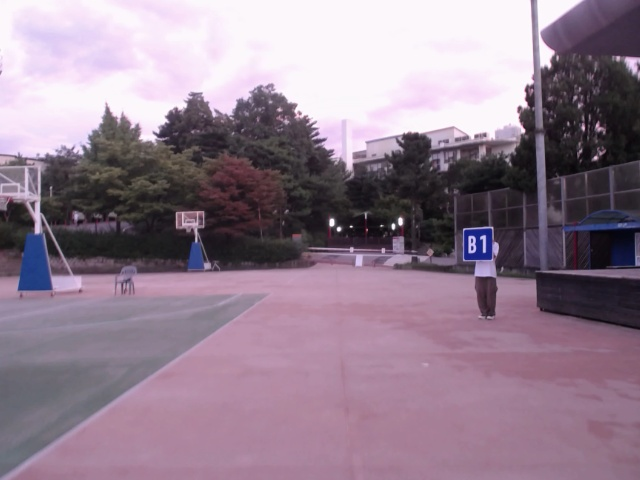delivery_b1: (463, 228, 494, 260)
